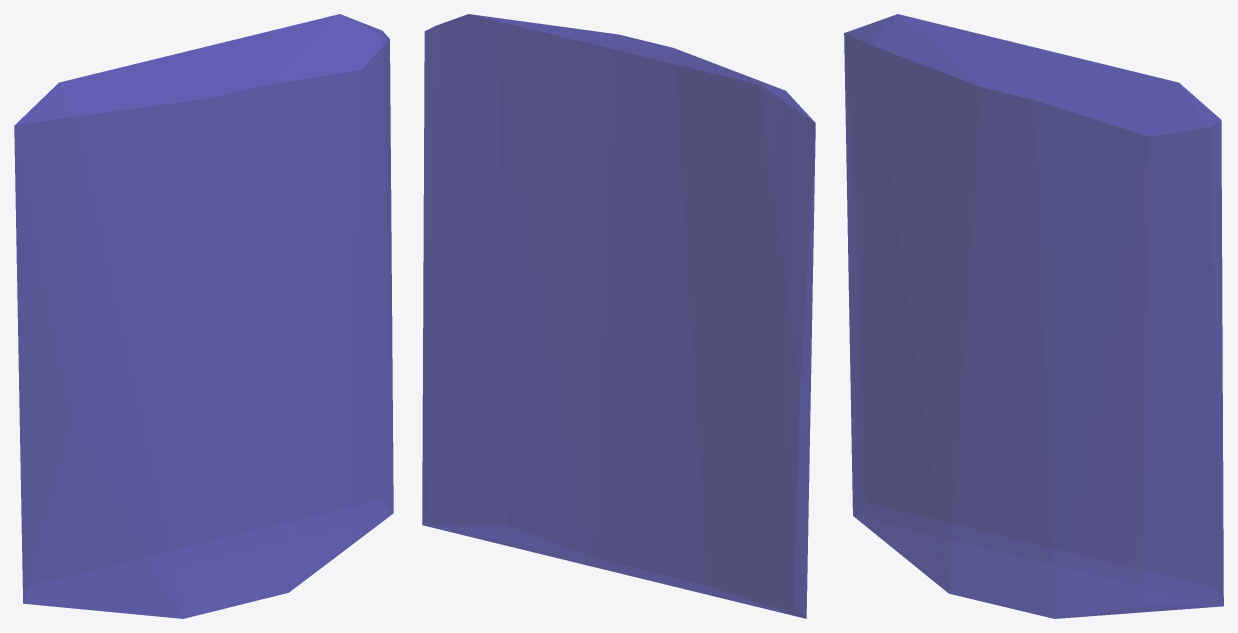
The picture shows the model from 3 angles, left to right: view 1: azimuth 30°, elevation 25°; view 2: azimuth 150°, elevation 25°; view 3: azimuth 330°, elevation 25°; orthographic projection. The views are drawn at different scales.
Parts seen in each view (by area): view 1: Shape_IndexedFaceSet.013_Shape_IndexedFaceSet.9303; view 2: Shape_IndexedFaceSet.013_Shape_IndexedFaceSet.9303; view 3: Shape_IndexedFaceSet.013_Shape_IndexedFaceSet.9303.
Part boxes in pixels (x1=…): Shape_IndexedFaceSet.013_Shape_IndexedFaceSet.9303: x1=14, y1=14, x2=393, y2=618; Shape_IndexedFaceSet.013_Shape_IndexedFaceSet.9303: x1=422, y1=14, x2=815, y2=618; Shape_IndexedFaceSet.013_Shape_IndexedFaceSet.9303: x1=844, y1=14, x2=1223, y2=618.
Size of the model in its own units: 0.1972 by 0.2637 by 0.033.
